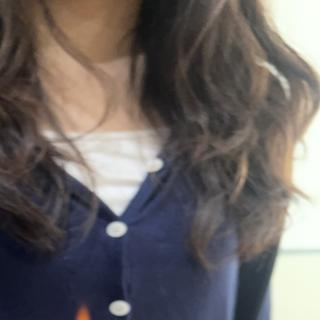fire: (67, 303, 94, 320)
